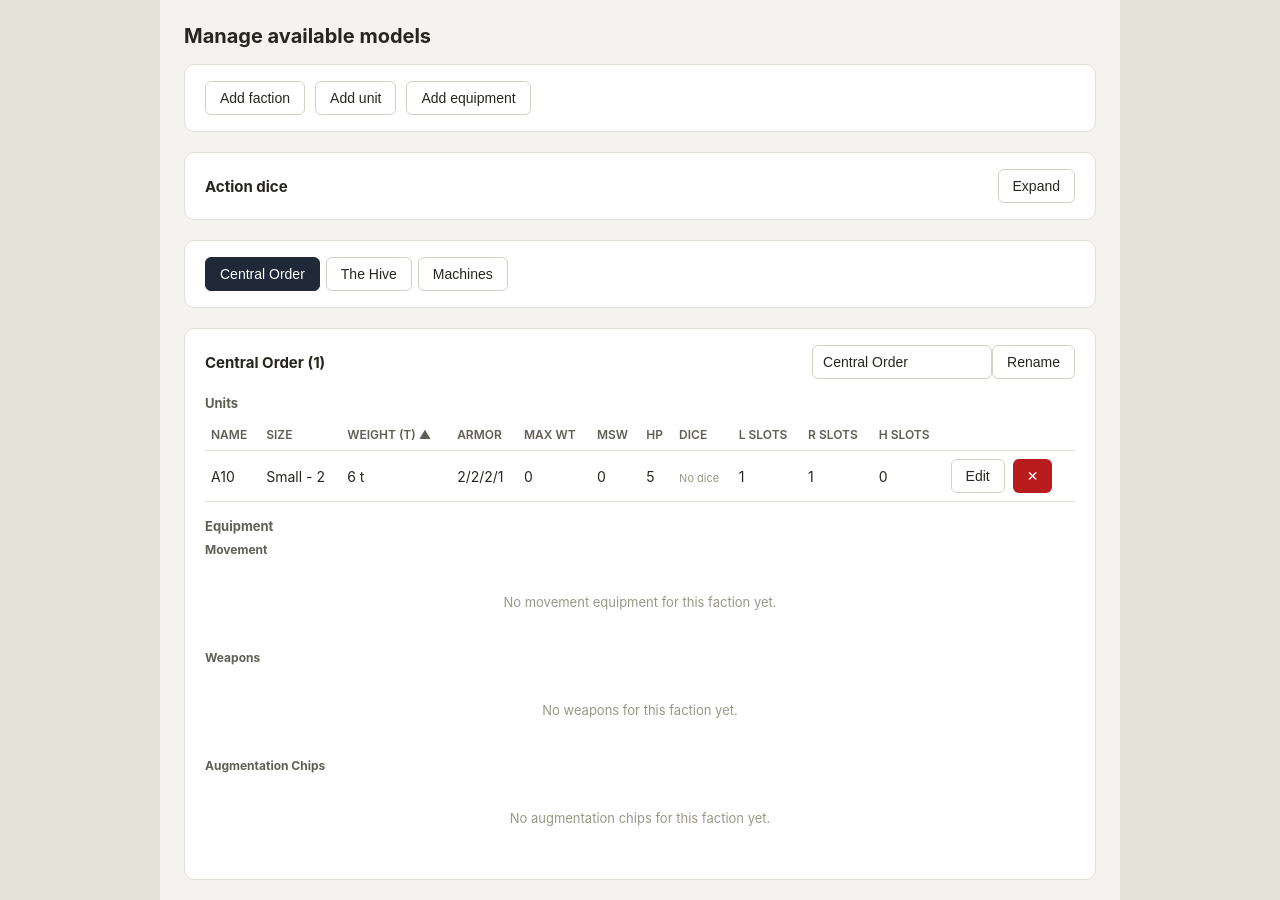
Test: ManagePage (#199) › deletes a unit from the catalogue
This screenshot has width=1280, height=900.
Click the button named "Remove" at (1033, 476), box left=1013, top=459, right=1052, bottom=493
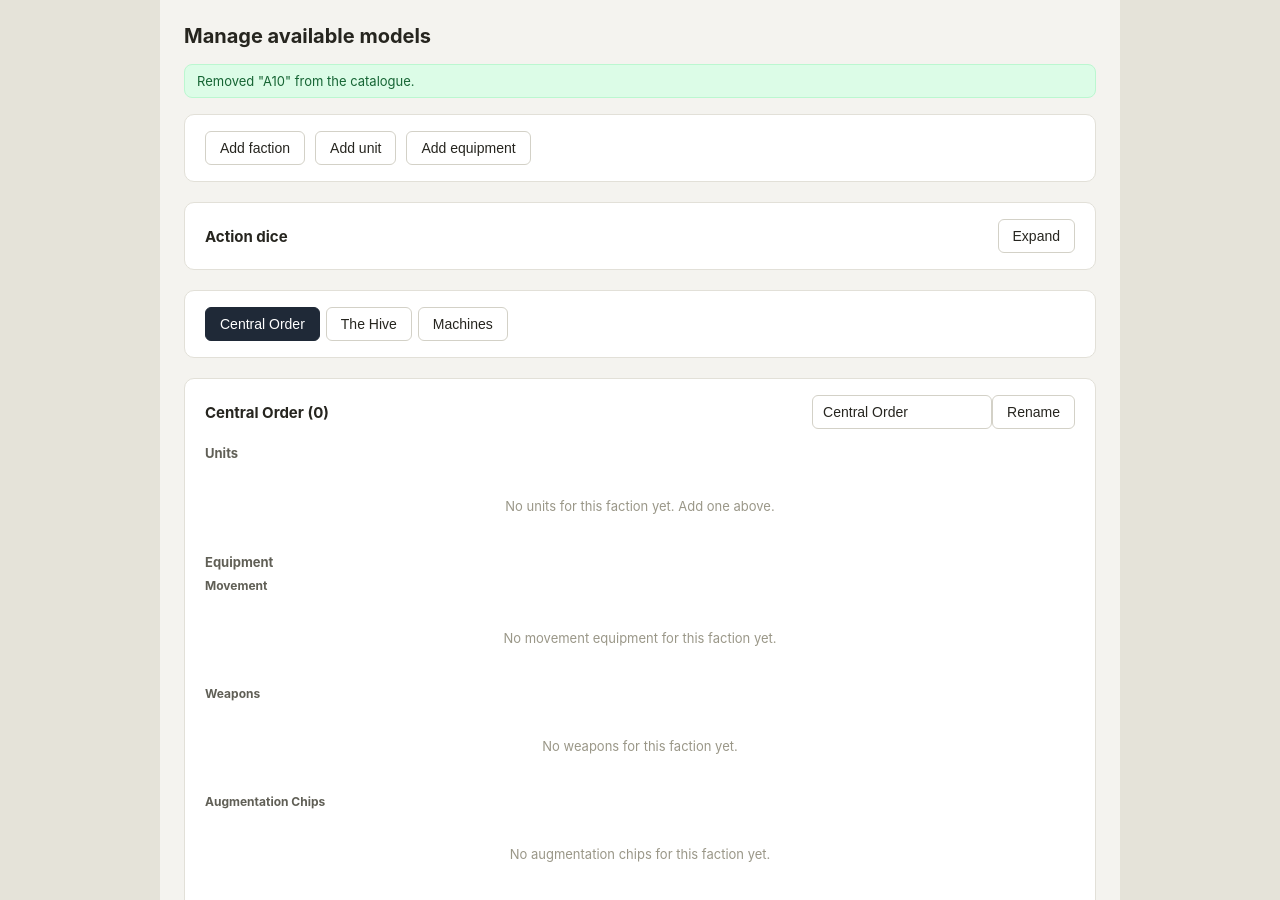
Expected: the text "Removed \"A10\" from the catalogue." is shown, left=184, top=64, right=1096, bottom=98
